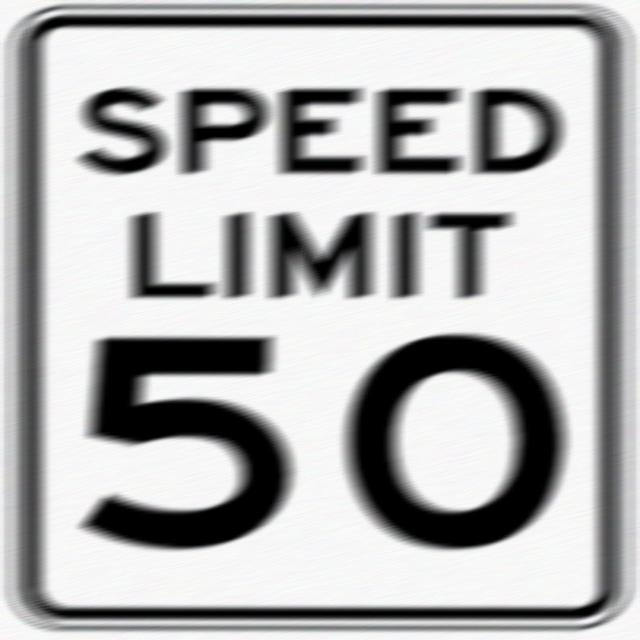speedLimit50: (9, 12, 625, 631)
